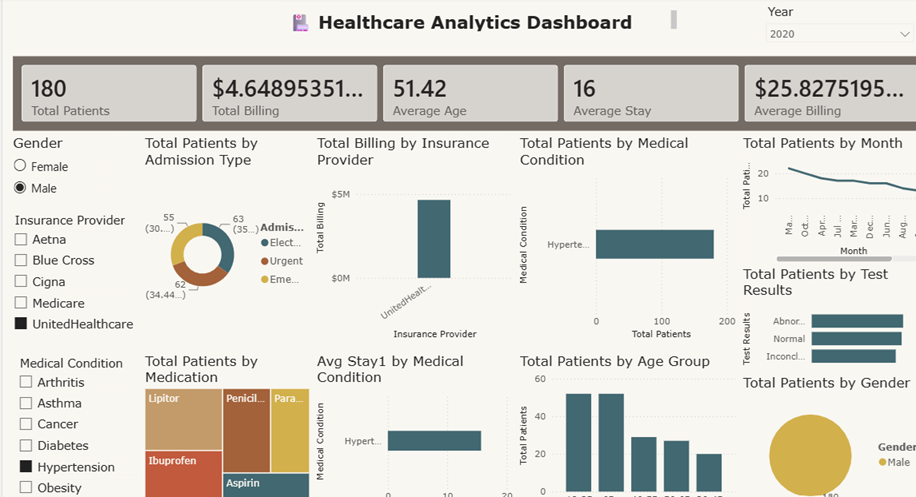

What the dashboard file says about the page in this screenshot:
{"tool":"powerbi","page":{"name":"Page 1","canvas":[1280,720],"ordinal":0},"visuals":[{"type":"cardVisual","fields":{"Data":["healthcare_dataset.Total Patients","healthcare_dataset.Total Billing","healthcare_dataset.Avg Age","healthcare_dataset.STay","healthcare_dataset.Avg Billing"]},"box":[9.6,76.8,1270.7,112.5],"z":0},{"type":"clusteredBarChart","fields":{"Category":["healthcare_dataset.Medical Condition"],"Y":["healthcare_dataset.Total Patients"]},"box":[705.3,189.4,306,285.4],"z":1000},{"type":"donutChart","fields":{"Category":["healthcare_dataset.Admission Type"],"Y":["healthcare_dataset.Total Patients"]},"box":[190.7,189.4,236,285.4],"z":2000},{"type":"columnChart","fields":{"Category":["healthcare_dataset.Insurance Provider"],"Y":["healthcare_dataset.Total Billing"]},"box":[426.8,189.4,278.6,285.4],"z":3000},{"type":"pieChart","fields":{"Category":["healthcare_dataset.Gender"],"Y":["healthcare_dataset.Total Patients"]},"box":[1011.3,518.7,266.2,201.7],"z":4000},{"type":"lineChart","fields":{"Category":["healthcare_dataset.Month"],"Y":["healthcare_dataset.Total Patients"]},"box":[1011.3,189.4,269,179.8],"z":5000},{"type":"barChart","fields":{"Category":["healthcare_dataset.Medical Condition"],"Y":["healthcare_dataset.Avg Stay1"]},"box":[426.8,488.5,278.6,226.4],"z":6000},{"type":"columnChart","fields":{"Category":["healthcare_dataset.Age Group"],"Y":["healthcare_dataset.Total Patients"]},"box":[705.3,488.5,306,231.9],"z":7000},{"type":"barChart","fields":{"Category":["healthcare_dataset.Test Results"],"Y":["healthcare_dataset.Total Patients"]},"box":[1011.3,369.1,266.2,149.6],"z":8000},{"type":"treemap","fields":{"Group":["healthcare_dataset.Medication"],"Values":["healthcare_dataset.Total Patients"]},"box":[190.7,488.5,236,219.6],"z":9000},{"type":"listSlicer","fields":{"Values":["healthcare_dataset.Gender"]},"box":[9.6,189.4,145.5,115.3],"z":10000},{"type":"slicer","fields":{"Values":["healthcare_dataset.Insurance Provider"]},"box":[4.1,292.3,190.7,196.2],"z":11000},{"type":"slicer","fields":{"Values":["healthcare_dataset.Medical Condition"]},"box":[11,488.5,179.8,231.9],"z":12000},{"type":"slicer","fields":{"Values":["healthcare_dataset.Date of Admission.Variation.Date Hierarchy.Year"]},"box":[1037.4,5.5,223.7,71.4],"z":13000},{"type":"textbox","box":[387,13.7,543.4,38.4],"z":15000}]}

Visuals, with their boxes on the page's 1280x720 design canvas (x1, y1, x2, y2). These are canvas units, not pixel positions in the 916x497 screenshot, which may show the page scaled, cropped or inside an application window:
cardVisual - healthcare_dataset.Total Patients x healthcare_dataset.Total Billing: BBox(10, 77, 1280, 189)
clusteredBarChart - healthcare_dataset.Medical Condition x healthcare_dataset.Total Patients: BBox(705, 189, 1011, 475)
donutChart - healthcare_dataset.Admission Type x healthcare_dataset.Total Patients: BBox(191, 189, 427, 475)
columnChart - healthcare_dataset.Insurance Provider x healthcare_dataset.Total Billing: BBox(427, 189, 705, 475)
pieChart - healthcare_dataset.Gender x healthcare_dataset.Total Patients: BBox(1011, 519, 1278, 720)
lineChart - healthcare_dataset.Month x healthcare_dataset.Total Patients: BBox(1011, 189, 1280, 369)
barChart - healthcare_dataset.Medical Condition x healthcare_dataset.Avg Stay1: BBox(427, 488, 705, 715)
columnChart - healthcare_dataset.Age Group x healthcare_dataset.Total Patients: BBox(705, 488, 1011, 720)
barChart - healthcare_dataset.Test Results x healthcare_dataset.Total Patients: BBox(1011, 369, 1278, 519)
treemap - healthcare_dataset.Medication x healthcare_dataset.Total Patients: BBox(191, 488, 427, 708)
listSlicer - healthcare_dataset.Gender: BBox(10, 189, 155, 305)
slicer - healthcare_dataset.Insurance Provider: BBox(4, 292, 195, 488)
slicer - healthcare_dataset.Medical Condition: BBox(11, 488, 191, 720)
slicer - healthcare_dataset.Date of Admission.Variation.Date Hierarchy.Year: BBox(1037, 6, 1261, 77)
textbox: BBox(387, 14, 930, 52)
